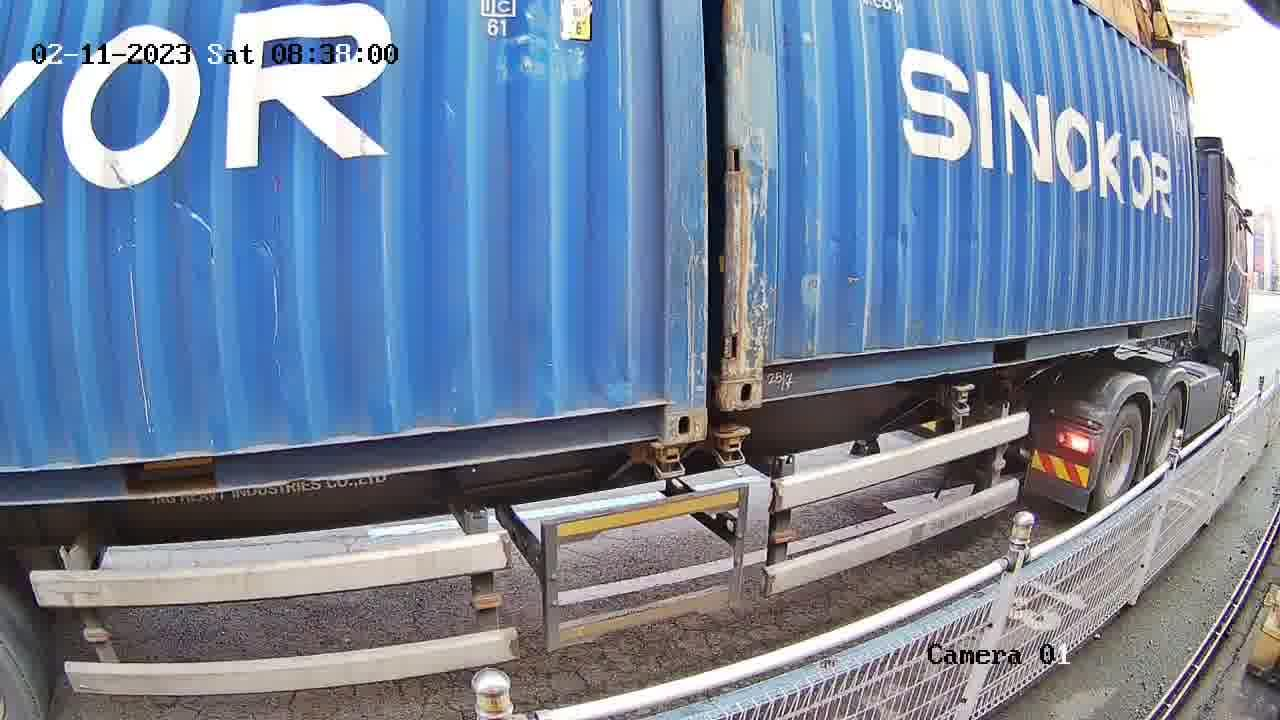Cone: (713, 425, 749, 470), (649, 444, 688, 482)
Hole_L: (724, 340, 795, 410)
Hole_R: (623, 371, 705, 443)
Tire: (1098, 406, 1144, 508), (1152, 389, 1183, 475)
